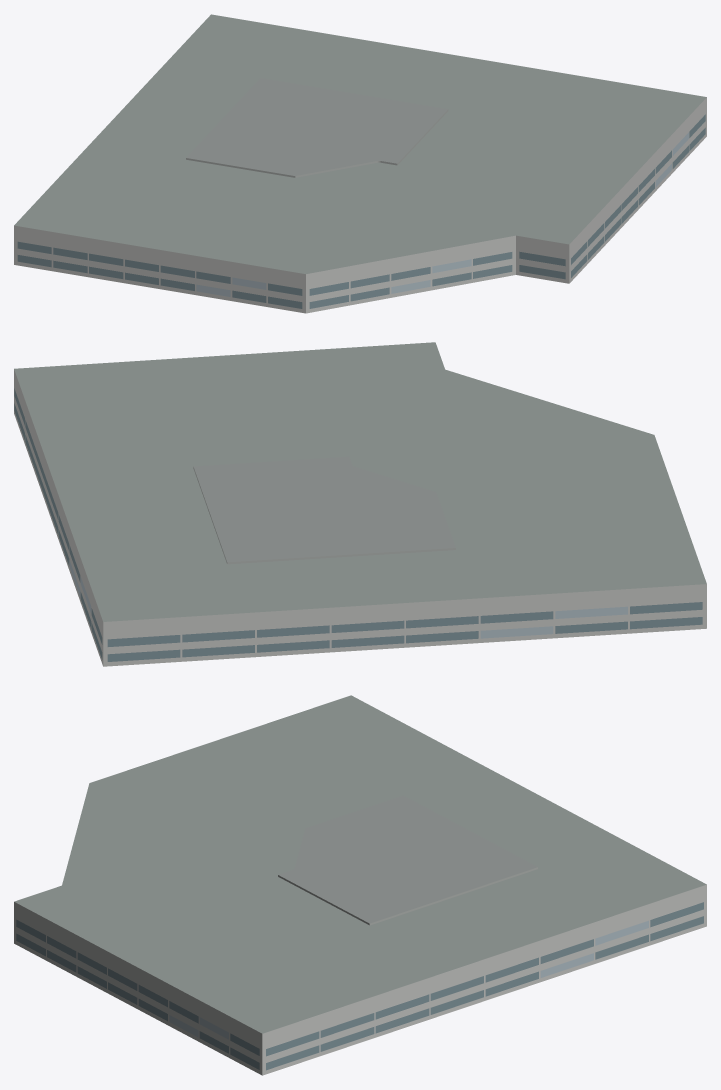
File: landmark-2623bbf0-348f-4cec-94c6-dc8ca4977552.glb
The picture shows the model from 3 angles, top to bottom: view 1: azimuth 30°, elevation 25°; view 2: azimuth 150°, elevation 25°; view 3: azimuth 270°, elevation 25°; orthographic projection. The views are drawn at different scales.
Parts seen in each view (by area): view 1: landmark-2623bbf0-348f-4cec-94c6-dc8ca4977552; view 2: landmark-2623bbf0-348f-4cec-94c6-dc8ca4977552; view 3: landmark-2623bbf0-348f-4cec-94c6-dc8ca4977552.
Boxes of the visible parts, x1,y1,x2,y2 form: landmark-2623bbf0-348f-4cec-94c6-dc8ca4977552: (14, 14, 706, 313); landmark-2623bbf0-348f-4cec-94c6-dc8ca4977552: (14, 342, 706, 666); landmark-2623bbf0-348f-4cec-94c6-dc8ca4977552: (14, 695, 706, 1075).
Size of the model in its own units: 159 by 9.56 by 137.
